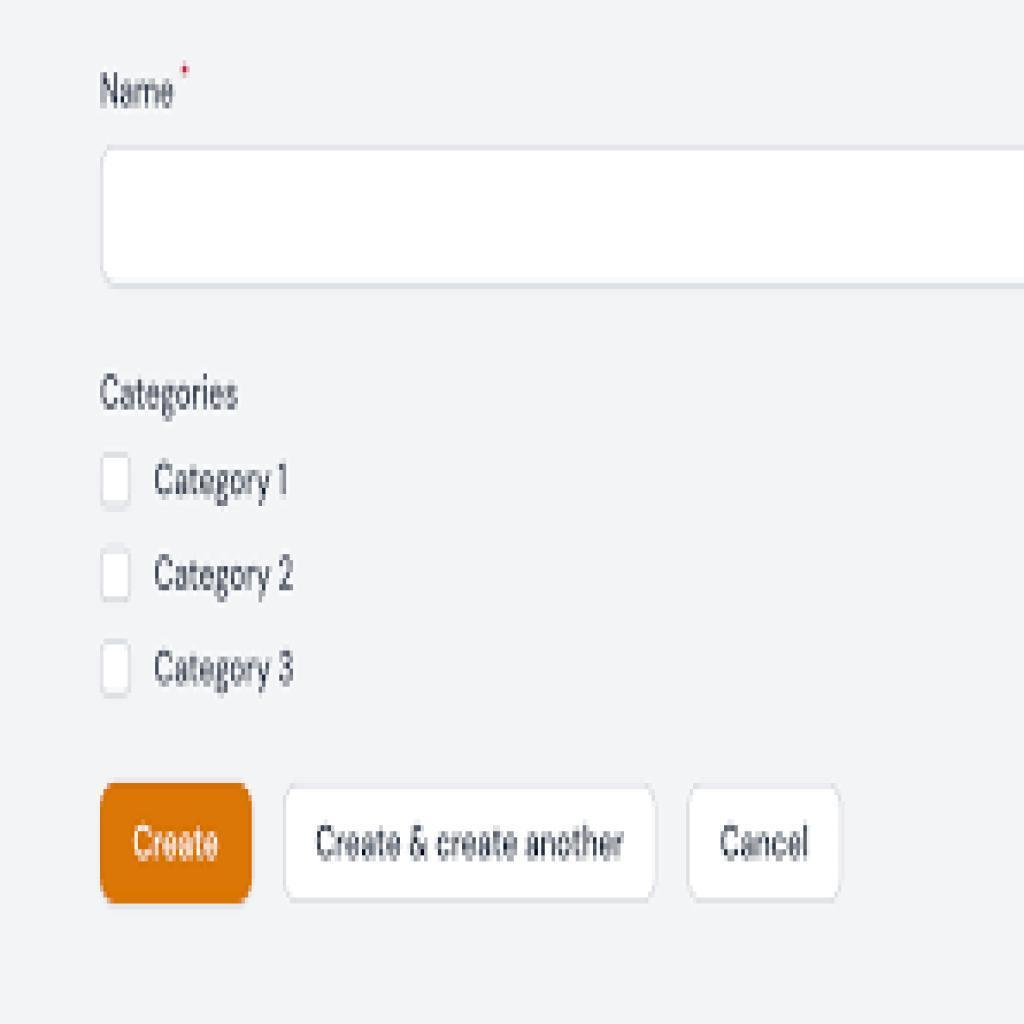button: (285, 783, 661, 909), (99, 782, 254, 907), (686, 783, 842, 907)
checkbox: (99, 642, 134, 696), (98, 454, 132, 506), (99, 552, 133, 603)
input: (99, 146, 1024, 286)
